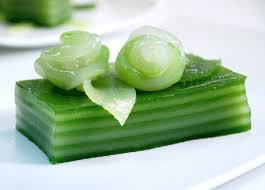kanomchan: (11, 50, 260, 167)
